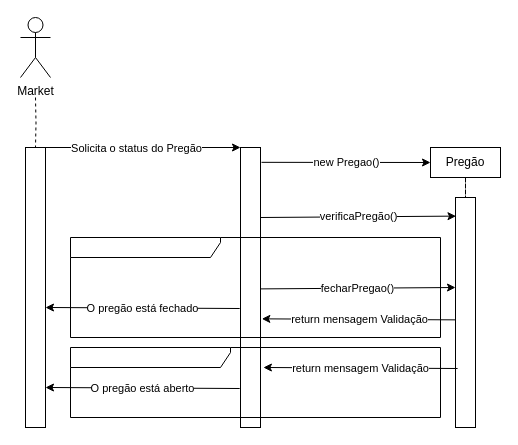
Image size: 518x445. Some labels were removed from this diagram. The shapes that lost their labels are listed below. From the top down, each one's centre as x and y in pixels, then its label:
At [255,287]: "se verificaPregao==True".
At [255,382]: "se verificaPregao==False".
